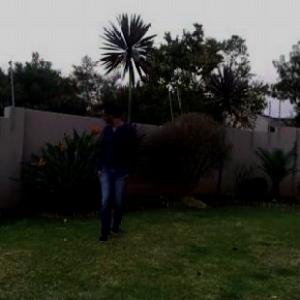follow: (91, 96, 140, 247)
